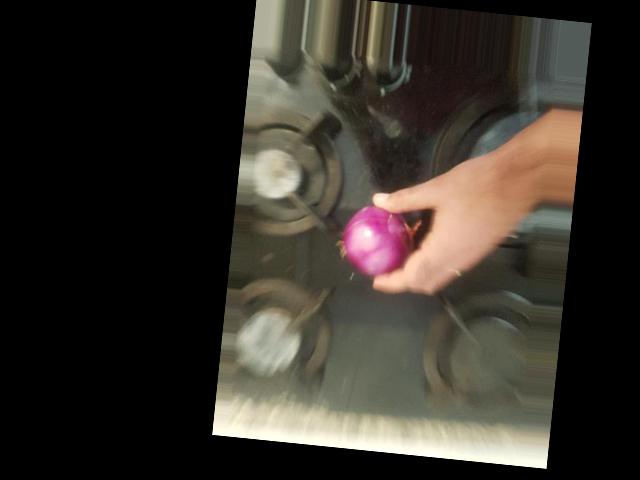onion: (266, 256, 363, 346)
